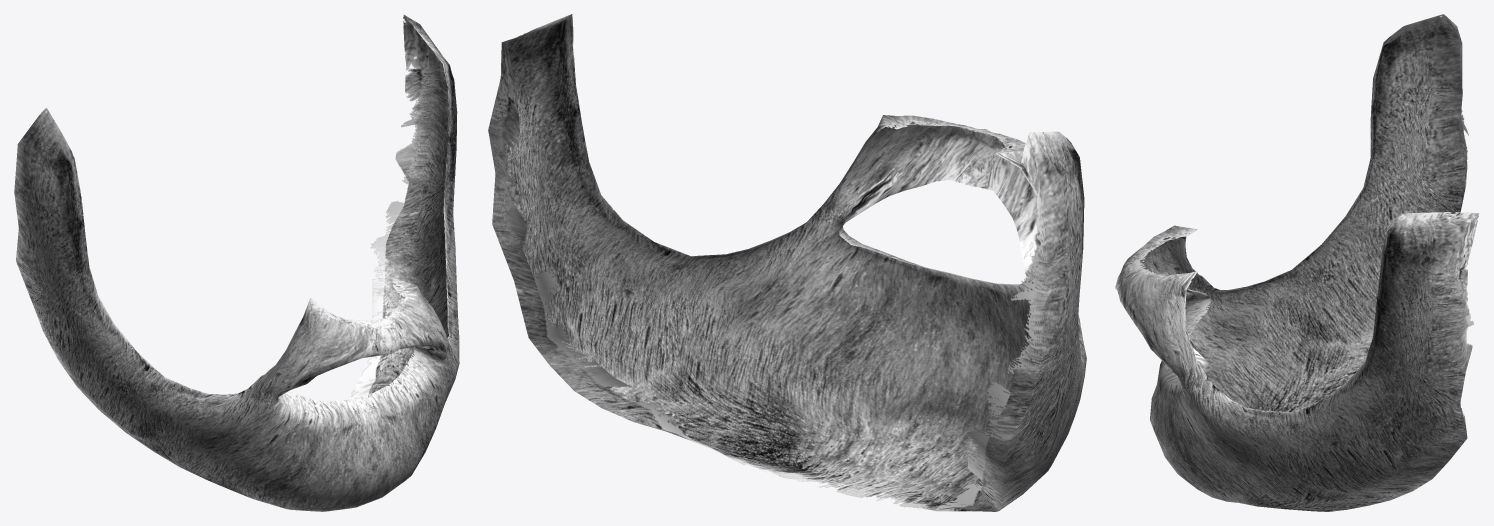
File: facial_beard_full.gltf
3 views of the same model, side by side, from view 1: azimuth 30°, elevation 25°; view 2: azimuth 150°, elevation 25°; view 3: azimuth 270°, elevation 25° (orthographic). The views are drawn at different scales.
Parts seen in each view (by area): view 1: facial_beard_full; view 2: facial_beard_full; view 3: facial_beard_full.
Part boxes in pixels (x1,y1,x2,y2): facial_beard_full: (14, 15, 459, 511); facial_beard_full: (488, 14, 1086, 511); facial_beard_full: (1115, 14, 1478, 511).
Bounding box in the file's own units: 0.1425 × 0.1185 × 0.1033.
Materials: 1 (1 with a texture image).
